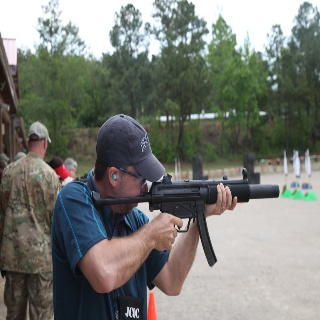rifle: (87, 166, 283, 268)
